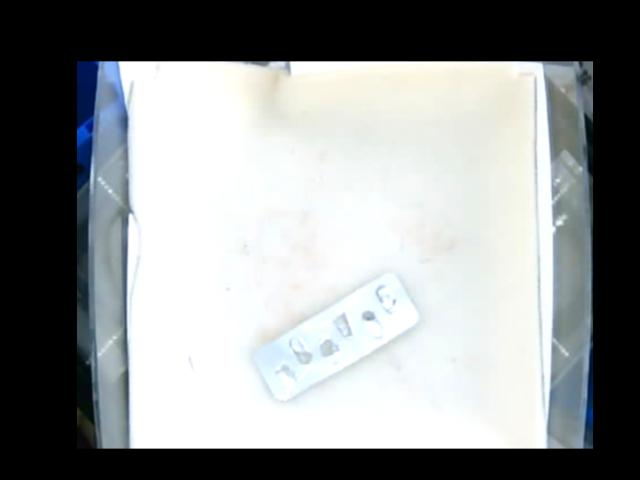Medicine: (251, 270, 417, 399)
